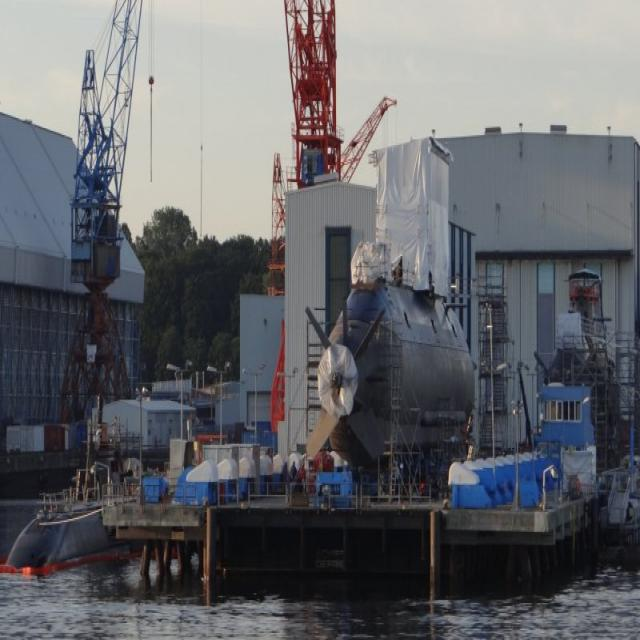submarine: (309, 287, 475, 479)
